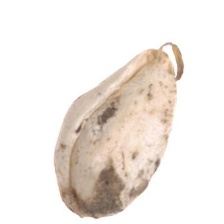L1: (140, 41, 183, 81), (68, 205, 117, 219)
L2: (52, 41, 183, 219)
